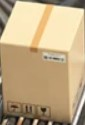stock: (1, 1, 85, 123)
